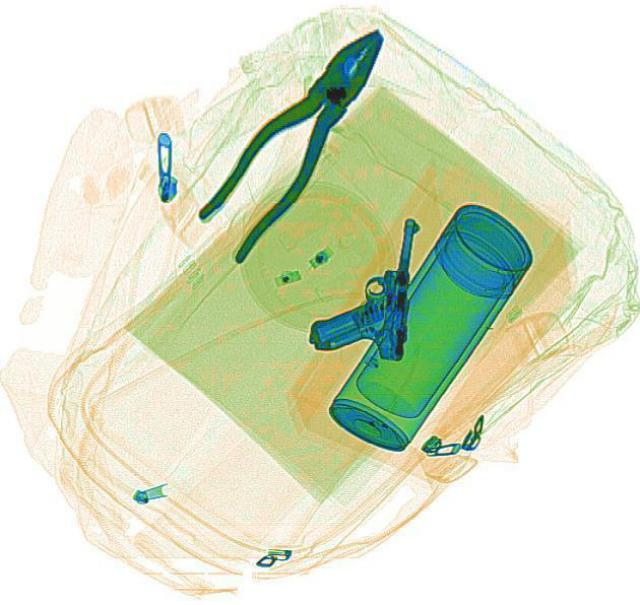Gun: (306, 210, 418, 359)
Pliers: (176, 10, 412, 266)
